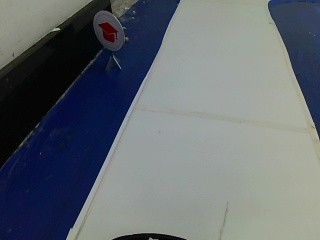school: (91, 10, 125, 52)
